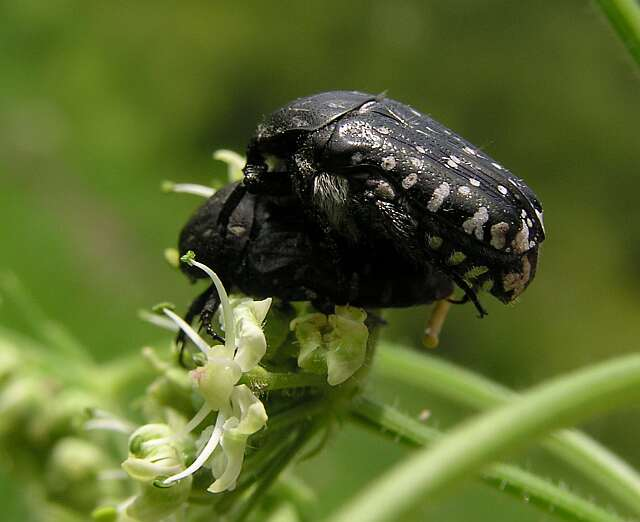Oxythyrea_funesta: (245, 83, 548, 327)
